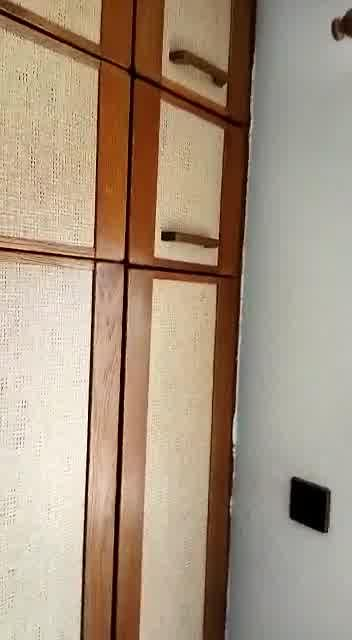cabinet_door: (130, 104, 247, 271), (135, 0, 250, 101)
handle: (162, 43, 231, 92), (155, 218, 222, 251)
